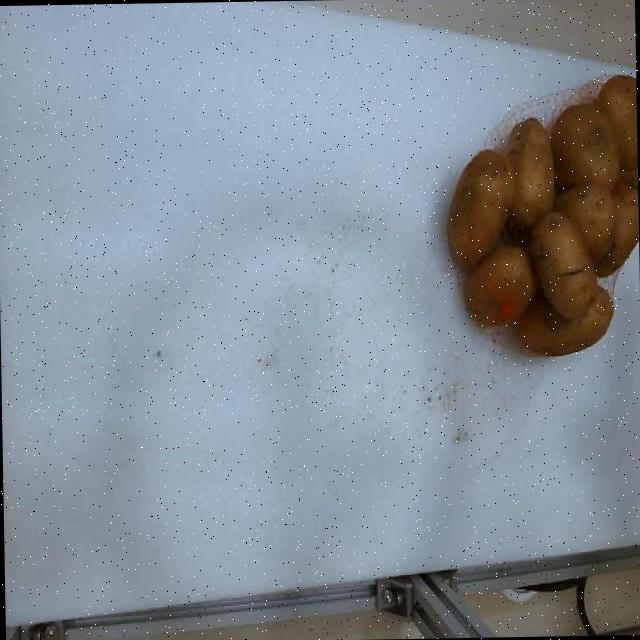potato: (447, 150, 513, 266), (530, 212, 595, 319), (518, 284, 612, 355), (551, 104, 619, 187), (466, 247, 536, 324), (507, 118, 554, 226), (554, 185, 615, 264), (595, 185, 639, 276), (598, 75, 637, 169)
